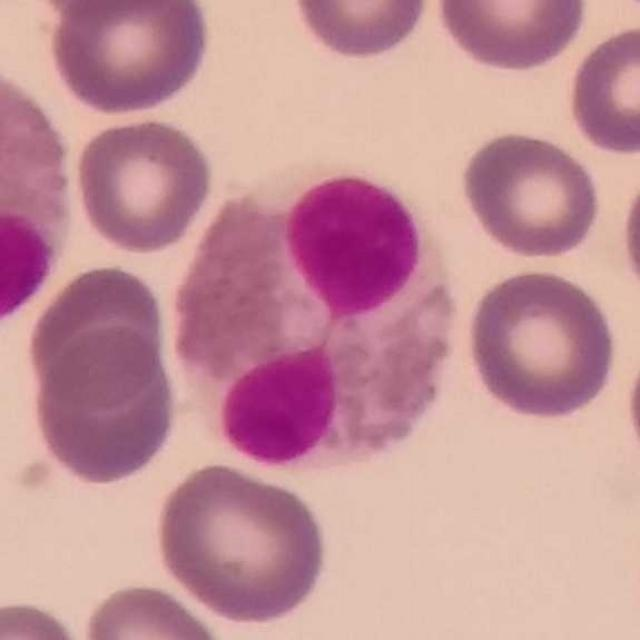Eosinophil: (168, 170, 455, 475), (0, 58, 81, 338)
RBC: (150, 458, 333, 628), (26, 322, 182, 488), (462, 265, 620, 423), (22, 259, 173, 406), (71, 114, 217, 257), (456, 125, 604, 262), (45, 0, 214, 118), (432, 0, 593, 76), (563, 21, 640, 159), (288, 0, 433, 65), (79, 579, 233, 640), (25, 0, 206, 24), (0, 595, 92, 639), (616, 157, 640, 313), (621, 328, 640, 491), (605, 0, 639, 24)
